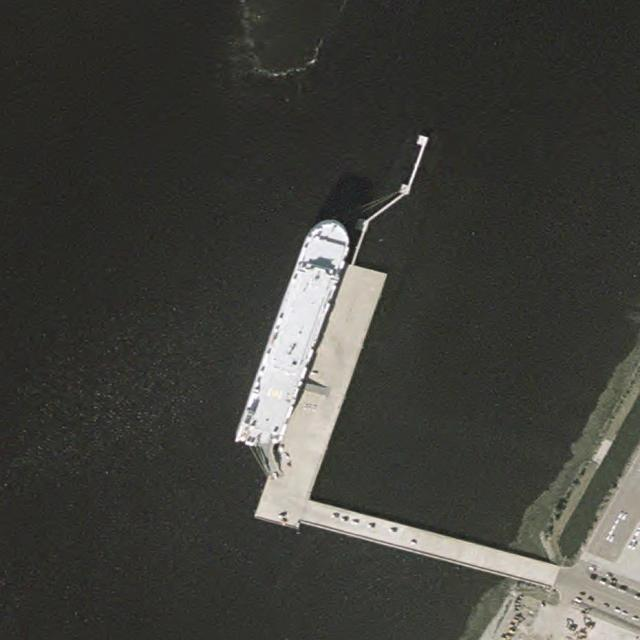Dock: (256, 259, 387, 533)
RoRo: (234, 213, 361, 453)
